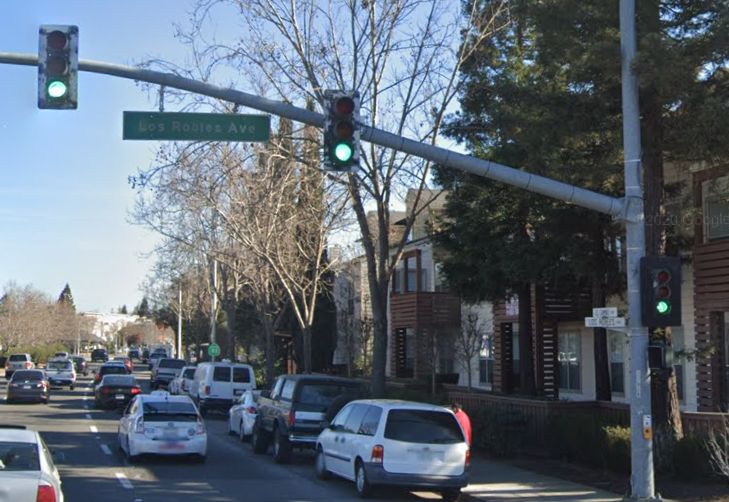green_light: (41, 27, 76, 106), (325, 91, 358, 169), (645, 260, 676, 326)
